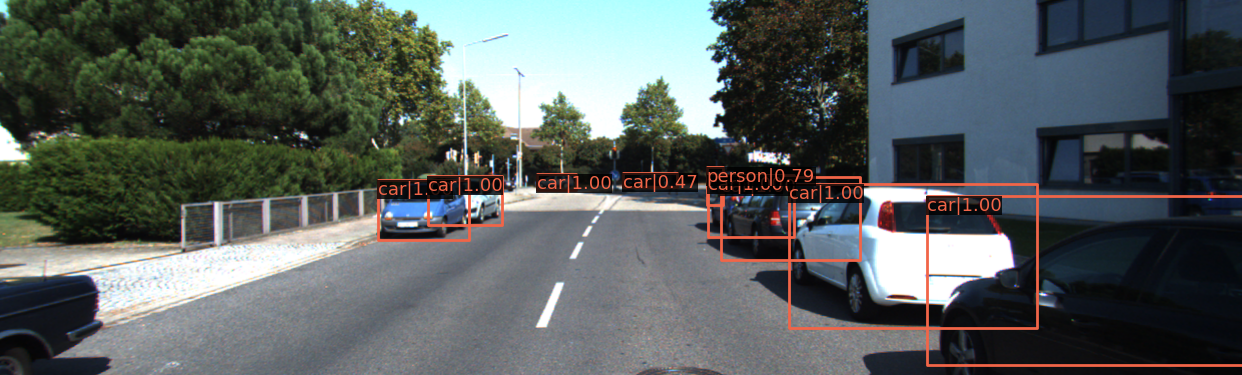car: (935, 193, 1242, 375), (788, 182, 1025, 328), (1, 216, 132, 375), (725, 179, 858, 263), (379, 181, 470, 239), (710, 177, 792, 236), (427, 178, 502, 226)
